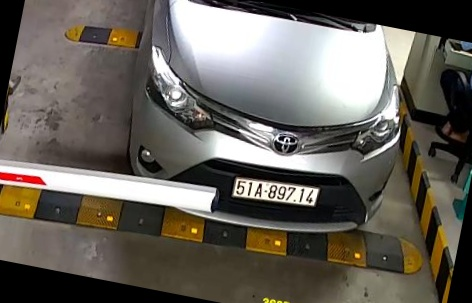plate: (230, 172, 319, 216)
